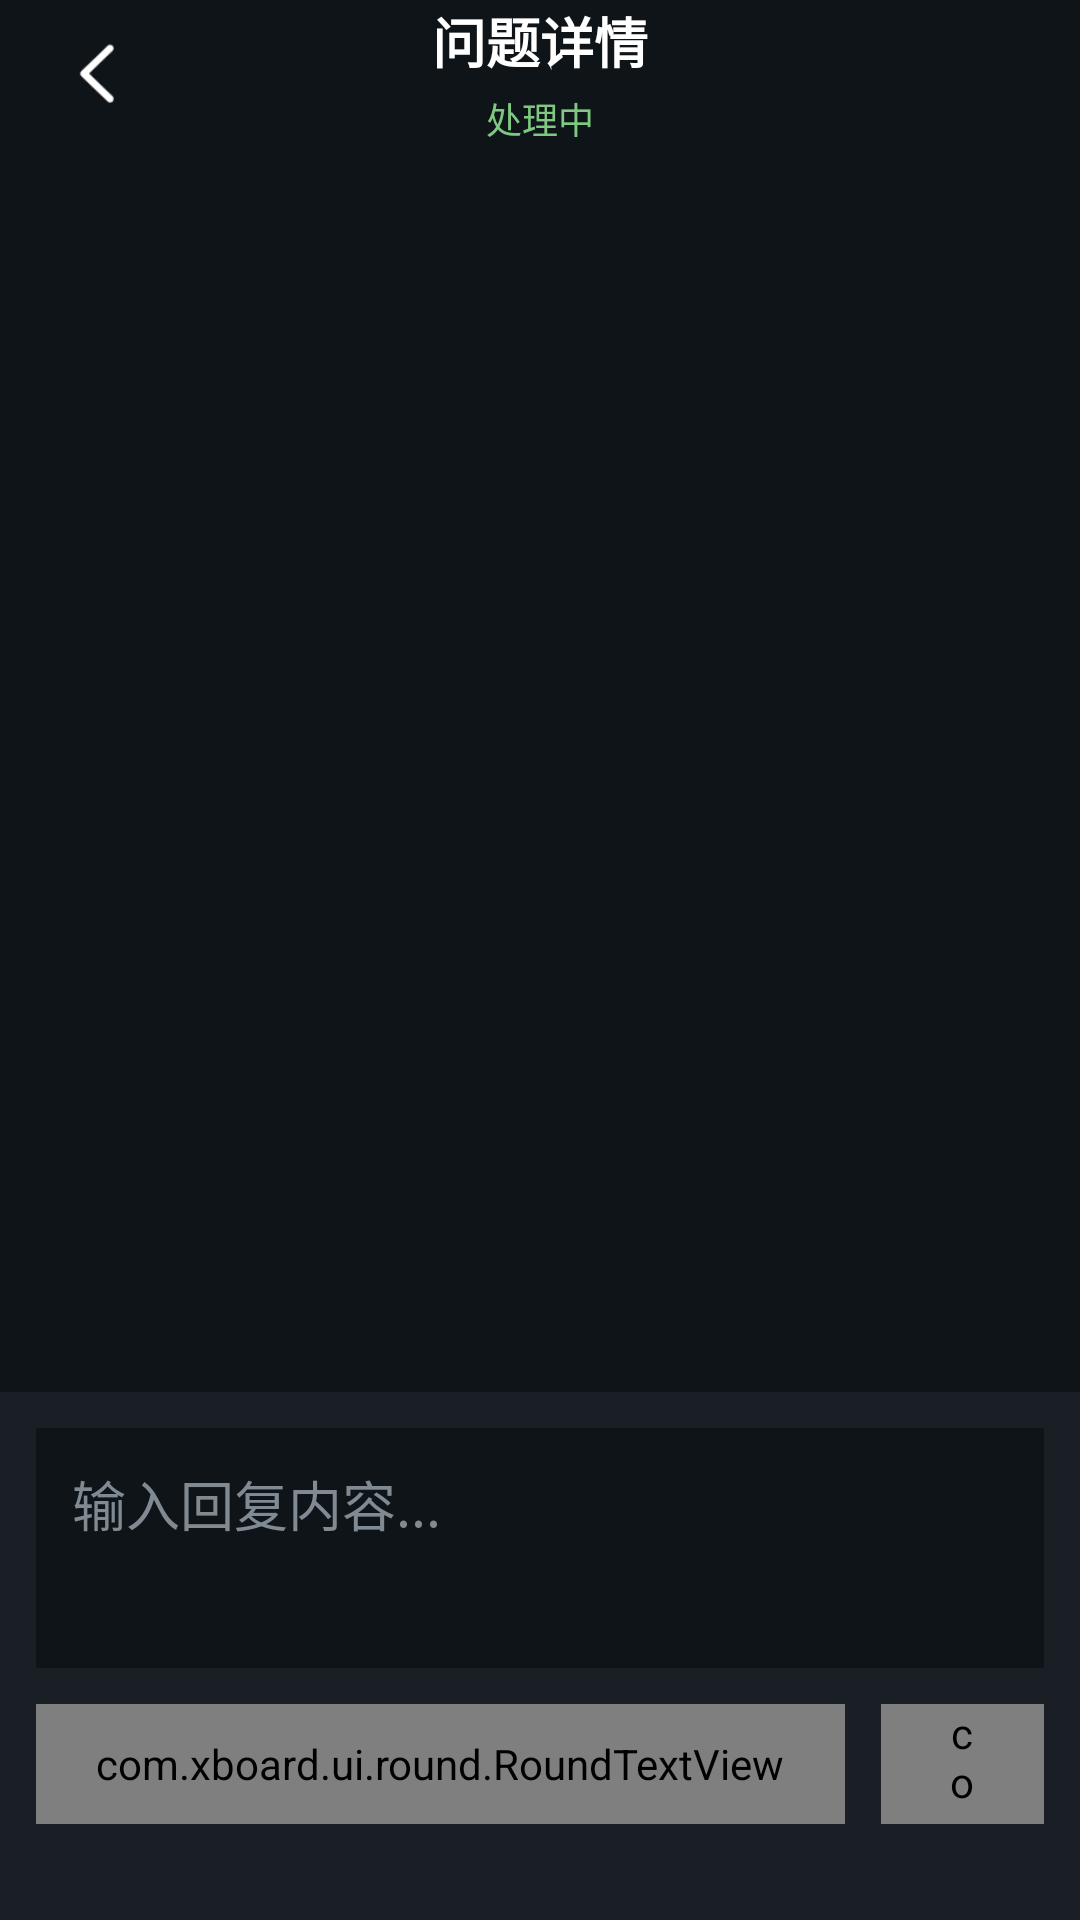

Icons on this 1080 x 1920 Android screen, each with its box as (x1=x1, y1=y1, x2=x2, y2=y2):
back: (x1=80, y1=44, x2=114, y2=103)
